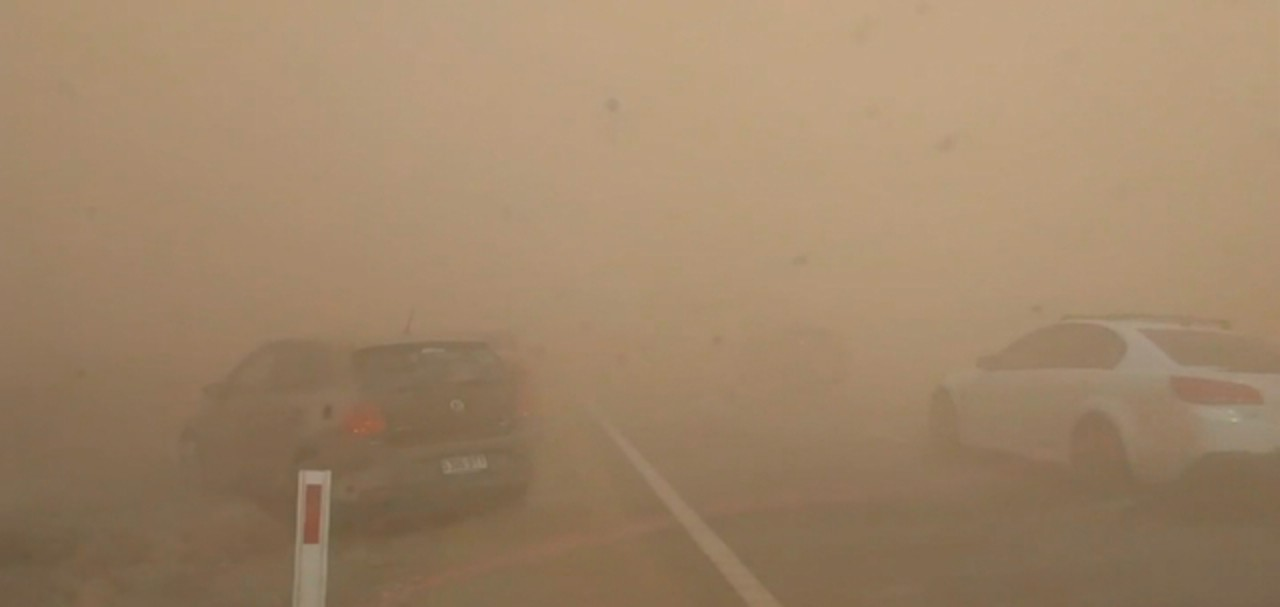car: (173, 331, 532, 537), (937, 312, 1276, 492)
